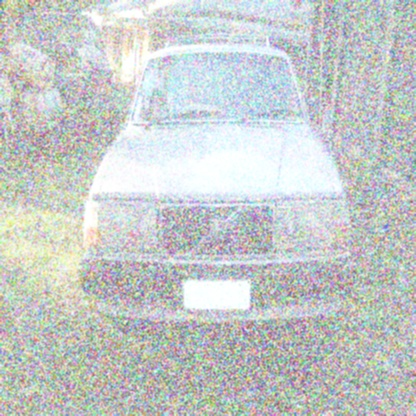Vehicle: (78, 34, 359, 338)
